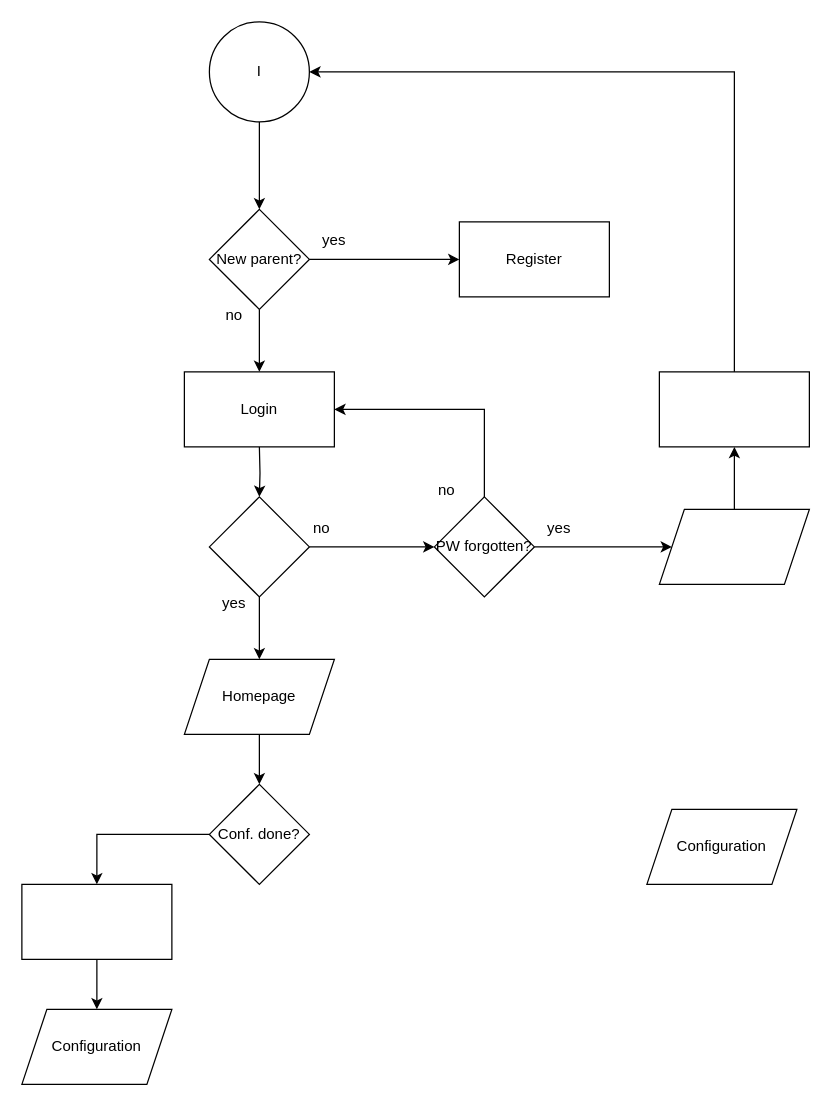
This 831x1106 diagram has some shape labels left out. Each missing label, with the centre of its shape:
"Clic on nut" belongs at (x=96, y=921).
"E-Mail with PW" belongs at (x=733, y=546).
"Set new PW" belongs at (x=733, y=409).
"Valid?" belongs at (x=258, y=546).
